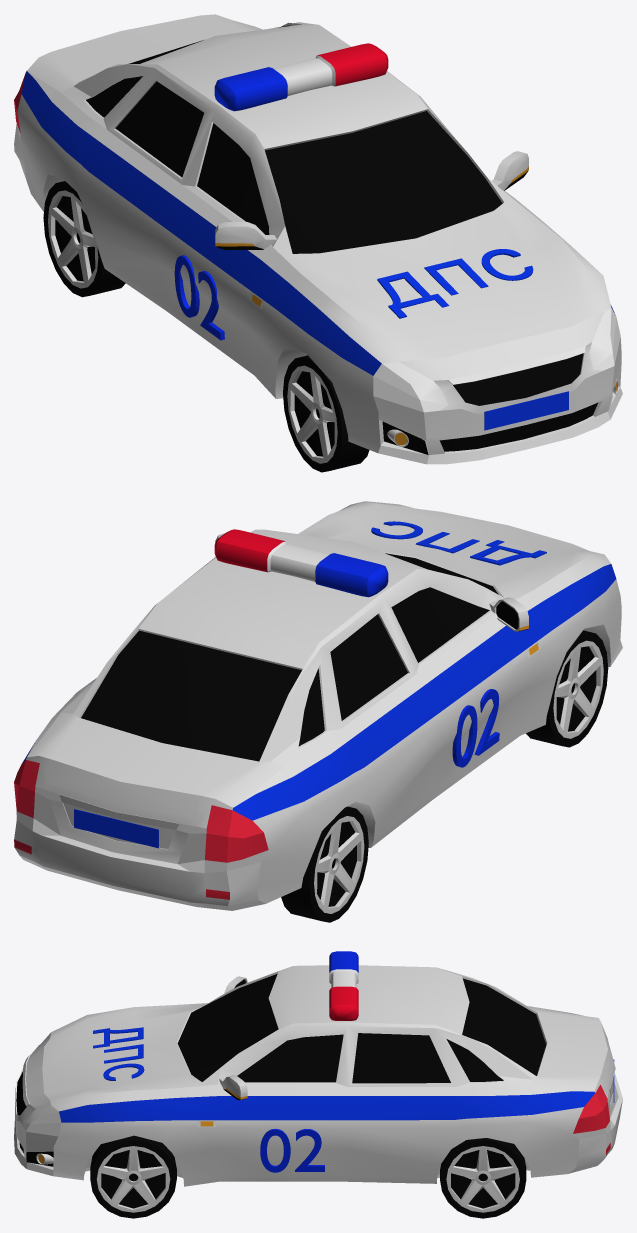
File: Priora Police.fbx
The picture shows the model from 3 angles, top to bottom: view 1: azimuth 30°, elevation 25°; view 2: azimuth 150°, elevation 25°; view 3: azimuth 270°, elevation 25°; orthographic projection. The views are drawn at different scales.
Visible parts, largest first — view 1: body, front wheels right, up lights, back wheels right, DPS, mirrors, 02 2, number; view 2: body, back wheels right, up lights, front wheels right, 02 2, number.001, DPS, mirrors; view 3: body, front wheels left, back wheels left, up lights, 02, DPS, mirrors.
Part boxes in pixels (left/top/right/bottom): body: left=14, top=14, right=622, bottom=464; front wheels right: left=283, top=355, right=369, bottom=472; up lights: left=214, top=43, right=388, bottom=111; back wheels right: left=43, top=181, right=125, bottom=297; DPS: left=377, top=249, right=533, bottom=318; mirrors: left=215, top=151, right=528, bottom=250; 02 2: left=174, top=255, right=224, bottom=340; number: left=484, top=391, right=568, bottom=430; body: left=14, top=501, right=622, bottom=910; back wheels right: left=281, top=806, right=368, bottom=922; up lights: left=214, top=529, right=388, bottom=597; front wheels right: left=526, top=630, right=608, bottom=747; 02 2: left=452, top=689, right=499, bottom=767; number.001: left=74, top=809, right=158, bottom=848; DPS: left=371, top=521, right=546, bottom=565; mirrors: left=215, top=533, right=528, bottom=631; body: left=14, top=965, right=622, bottom=1186; front wheels left: left=90, top=1135, right=176, bottom=1218; back wheels left: left=440, top=1138, right=526, bottom=1218; up lights: left=329, top=951, right=358, bottom=1020; 02: left=260, top=1128, right=324, bottom=1172; DPS: left=93, top=1027, right=144, bottom=1080; mirrors: left=219, top=976, right=247, bottom=1100.
Bounding box in the file's own units: 128 × 103 × 294.
